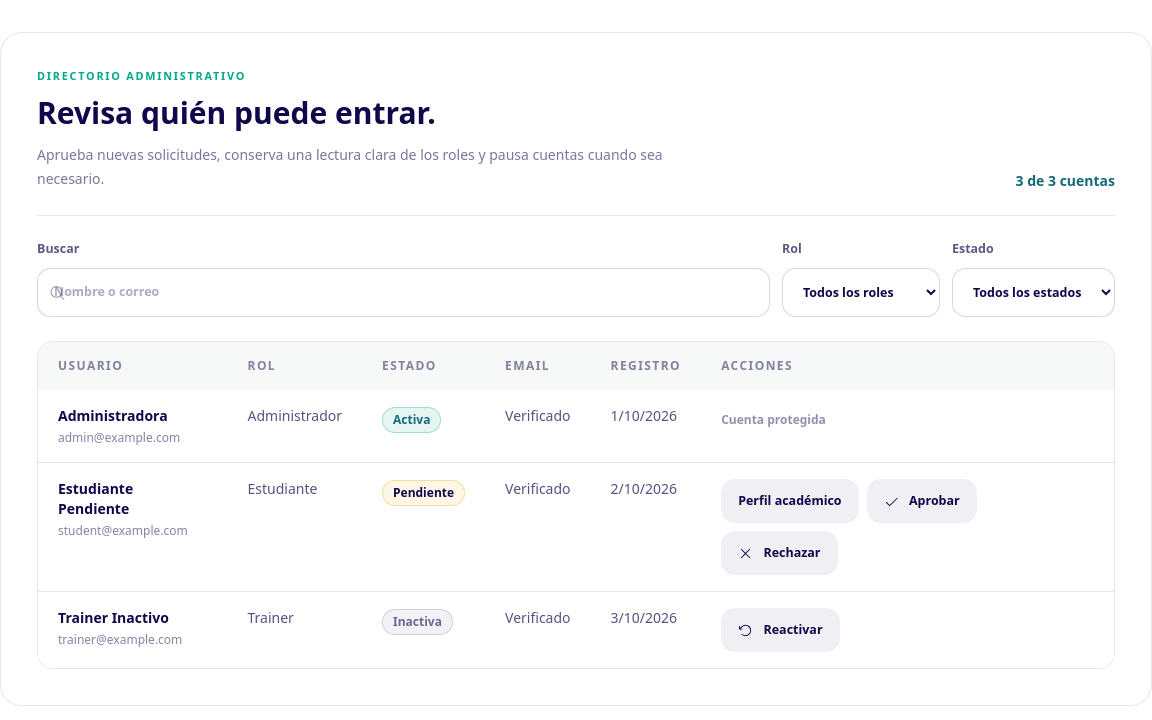
UserManagement › updates a pending account and keeps administrators protected
The width and height of the screenshot is (1152, 720).
Expected: the text "Cuenta protegida" is shown, x1=721 y1=411 x2=826 y2=428
What coordinates should you click on to do the following:
click the button "Aprobar"
I would click on:
 (922, 501)
Its box is x1=867 y1=479 x2=977 y2=523.
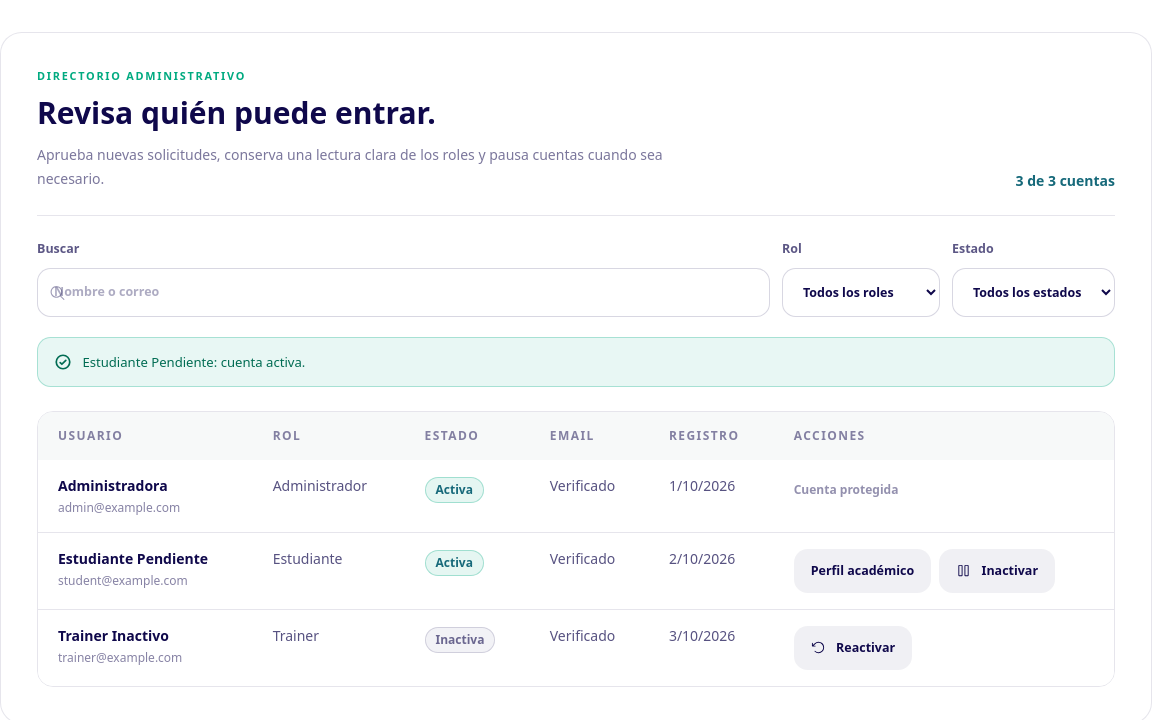
Expected: the text "Activa" in the row of "Administradora" is shown, x1=436 y1=481 x2=473 y2=498
Result: the text "Estudiante Pendiente: cuenta activa." is shown at x1=82 y1=352 x2=305 y2=372
